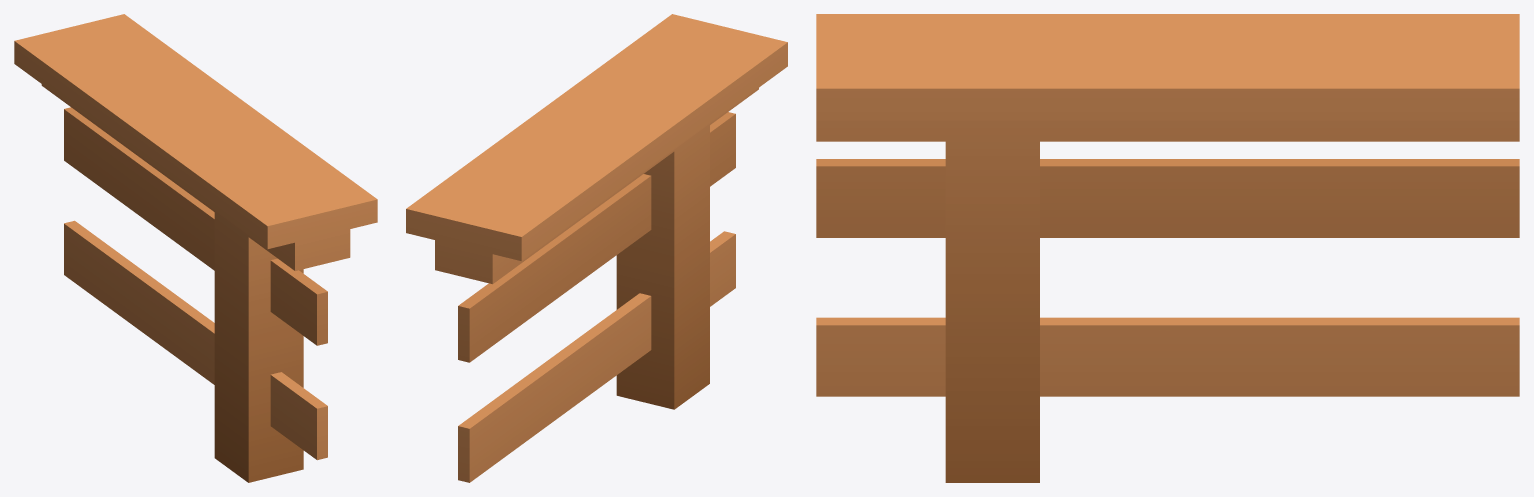
File: railing.glb
3 renders of one model, left to right at view 1: azimuth 30°, elevation 25°; view 2: azimuth 150°, elevation 25°; view 3: azimuth 270°, elevation 25°, orthographic. The views are drawn at different scales.
Visible parts, largest first — view 1: Cube.001; view 2: Cube.001; view 3: Cube.001.
Boxes of the visible parts, box(x1,y1,x2,y2) form: Cube.001: box(14, 14, 377, 482); Cube.001: box(406, 14, 787, 482); Cube.001: box(816, 14, 1519, 482).
Bounding box in the file's own units: 0.4029 × 1.04 × 1.61.
Materials: 1 (1 with a texture image).
